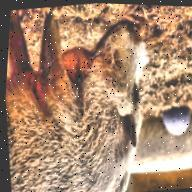boar: (0, 0, 172, 192)
